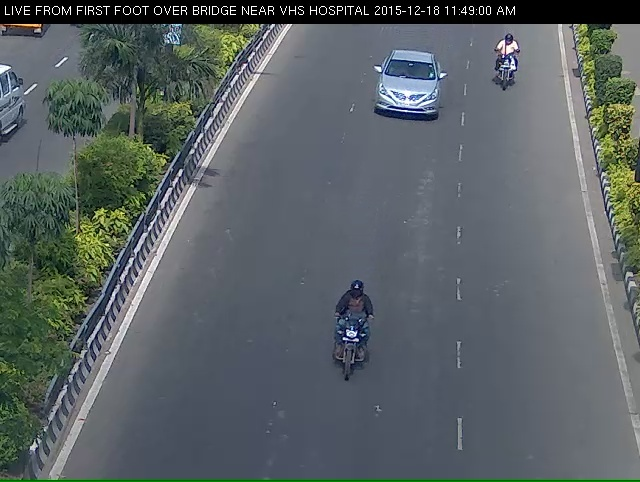Car: (371, 52, 444, 134)
Person: (324, 310, 375, 409), (490, 39, 519, 99)
